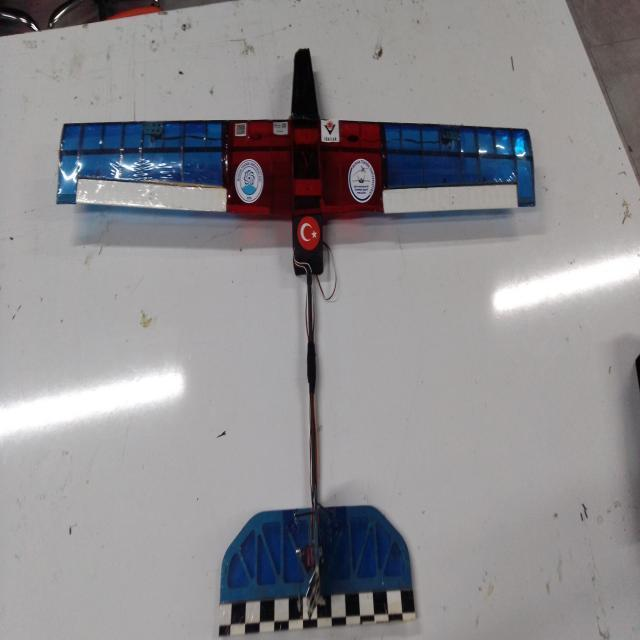UAV: (29, 54, 595, 610)
